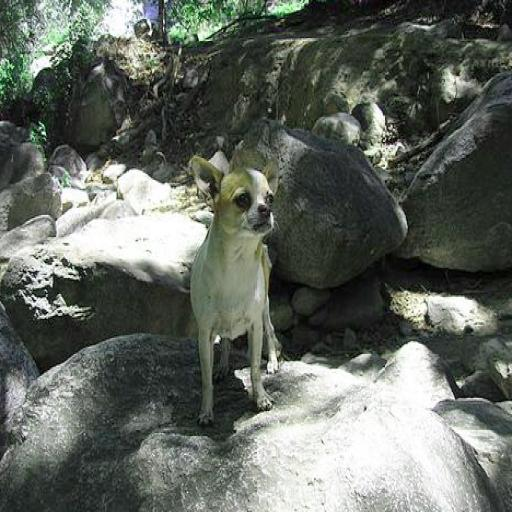dog_face: (188, 154, 282, 237)
